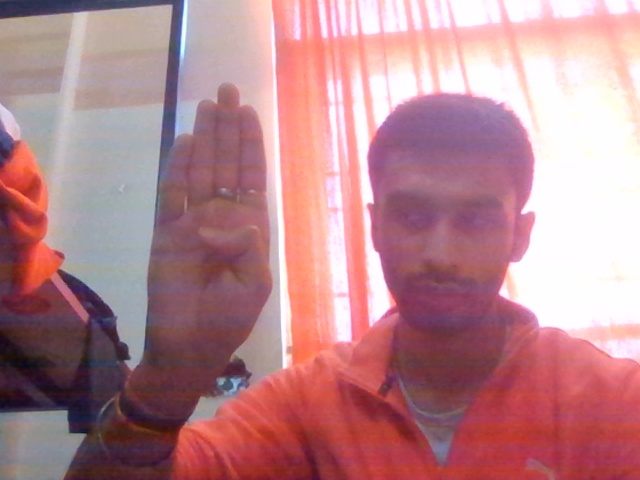B: (129, 79, 296, 399)
